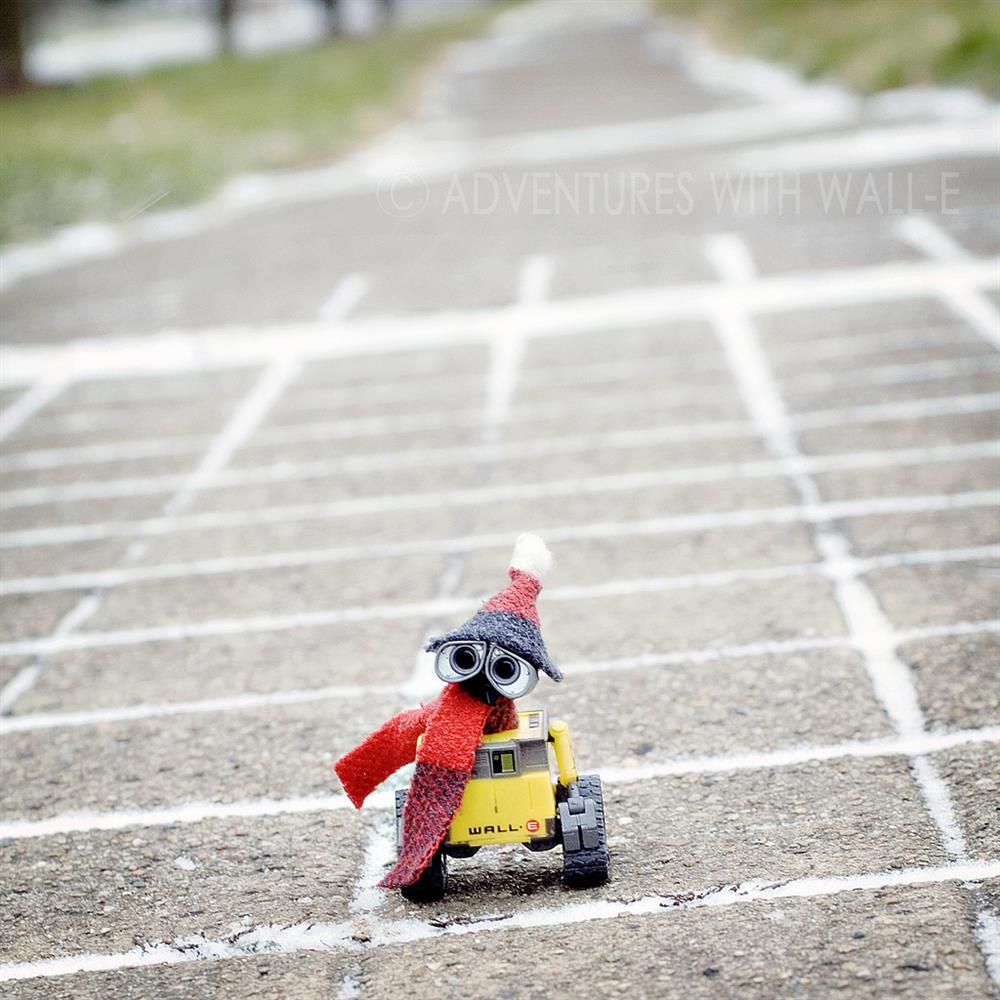walle: (400, 584, 609, 902)
